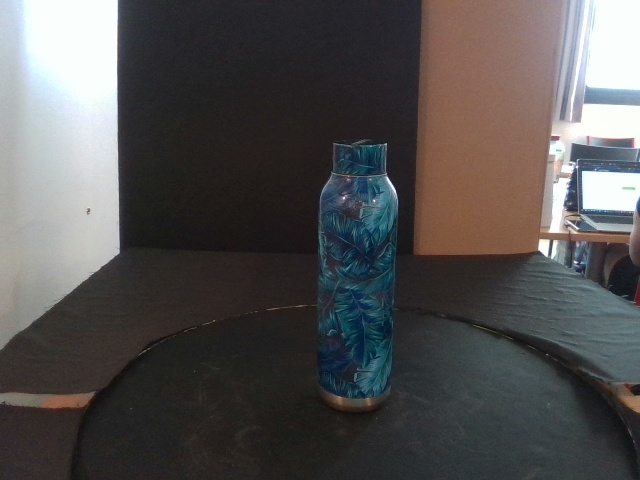bottle: (317, 140, 401, 409)
